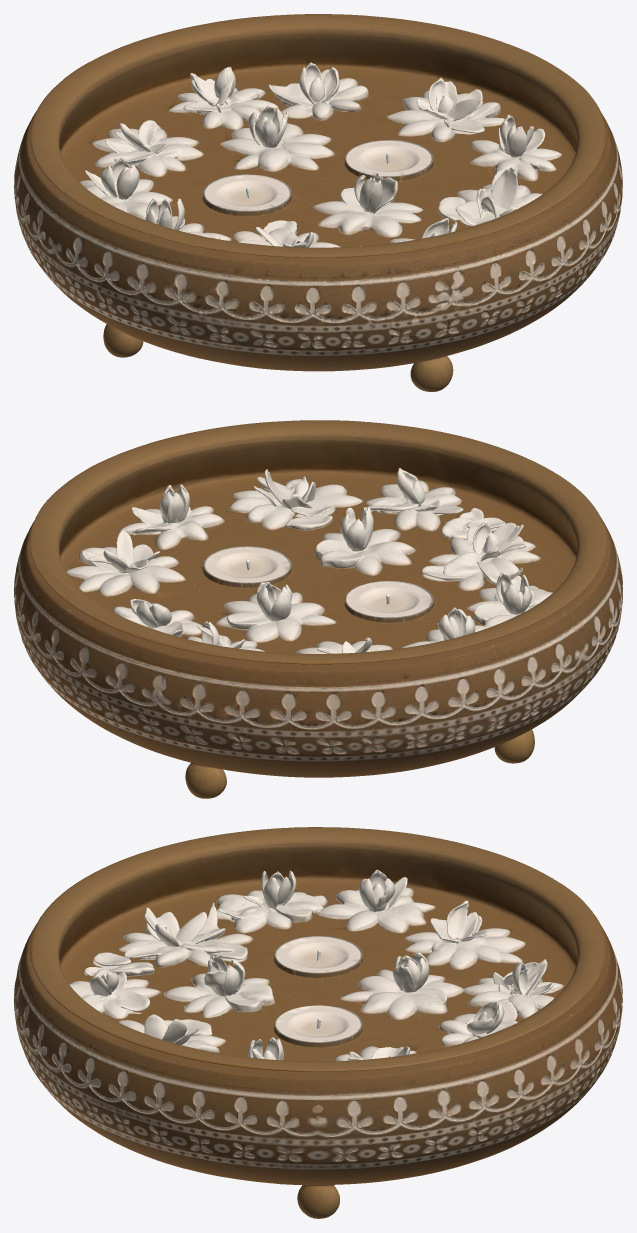
File: behoma-mango-wood-metal-urli-11-inch-centre-table-flower-bow.glb
3 renders of one model, top to bottom at view 1: azimuth 30°, elevation 25°; view 2: azimuth 150°, elevation 25°; view 3: azimuth 270°, elevation 25°, orthographic.
Size of the model in its own units: 1.9 by 0.5875 by 1.9.
Materials: 1 (1 with a texture image).
